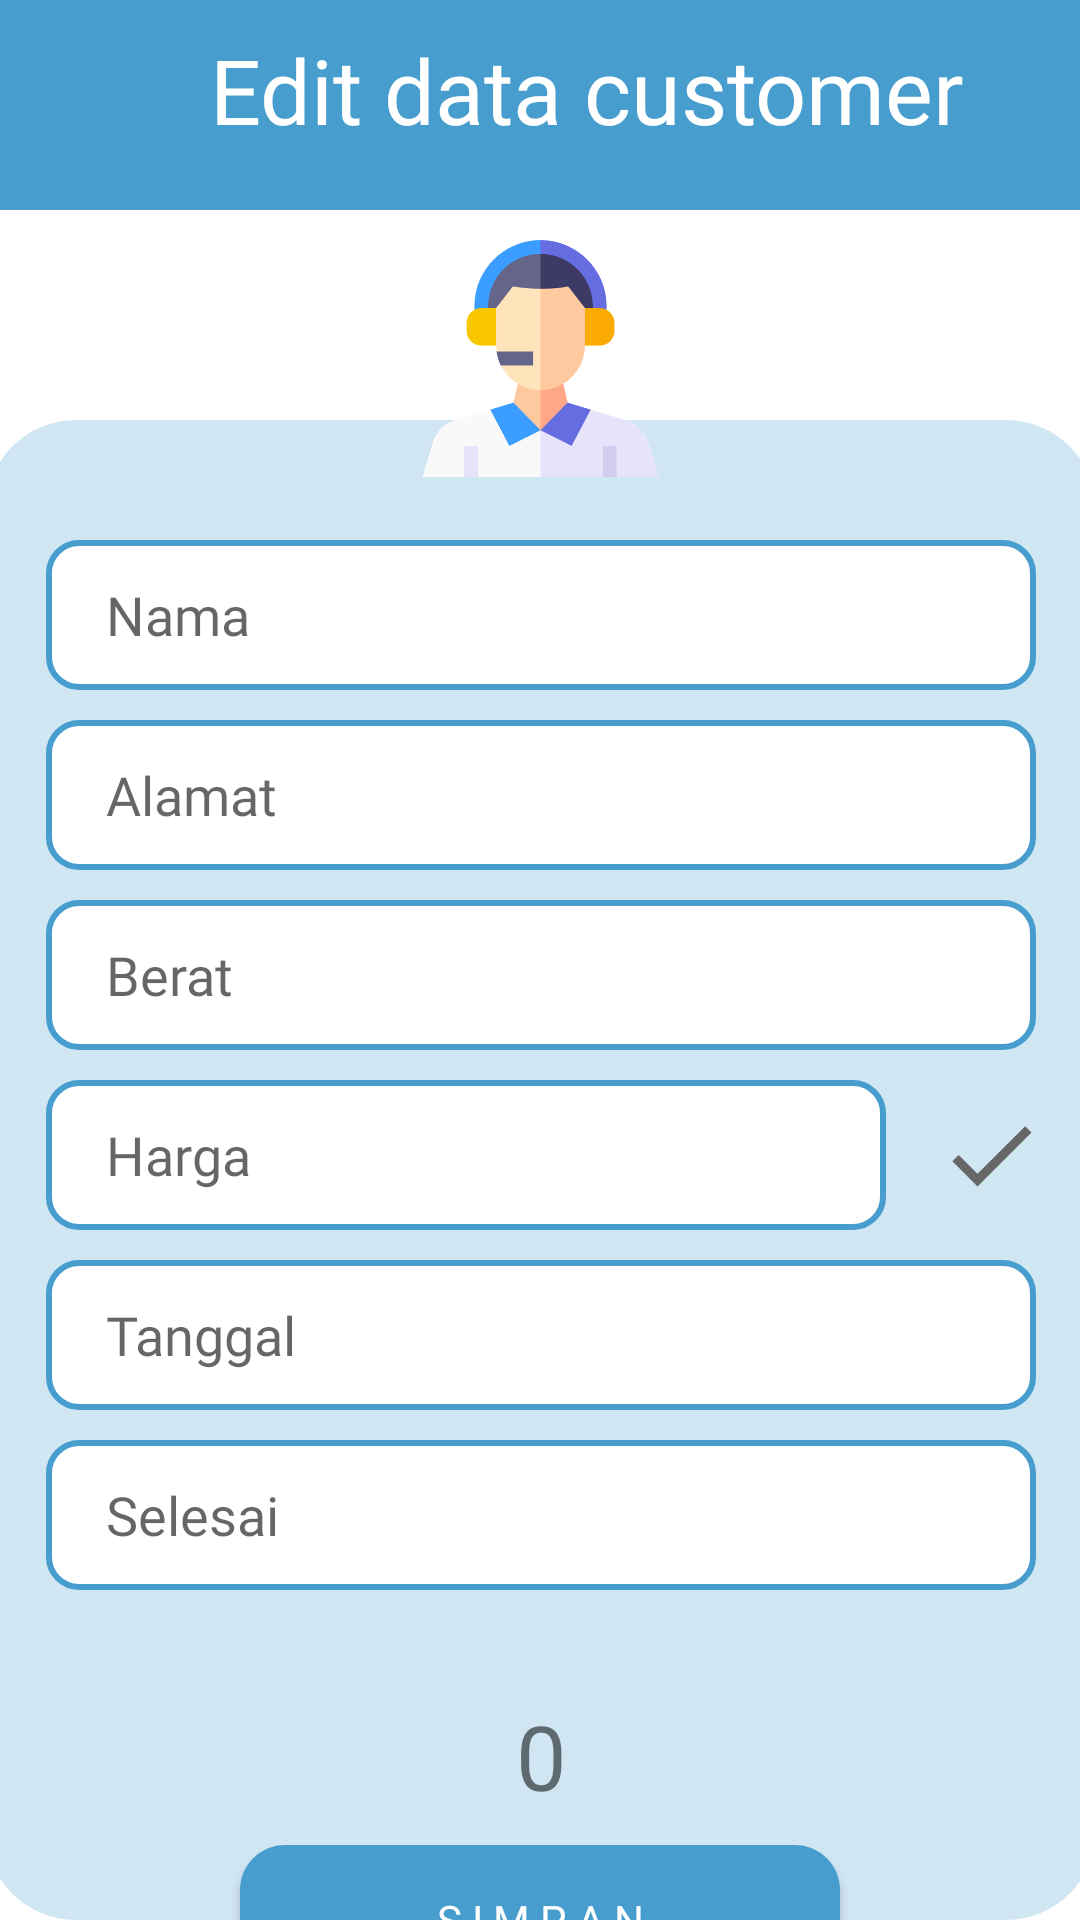

Named icons in this screenshot (1080w x 1920h) and their bounding boxes, (x1, y1, x2, y2):
admin: (422, 240, 659, 477)
check: (952, 1126, 1032, 1187)
